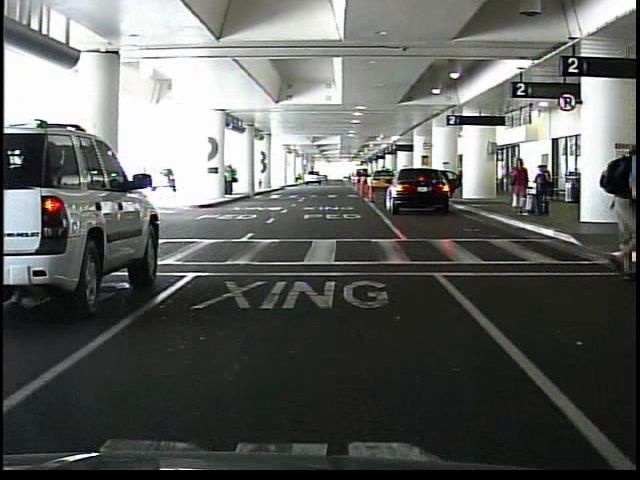person: (587, 135, 638, 271), (504, 157, 527, 213), (530, 163, 552, 216), (225, 163, 237, 197), (540, 164, 551, 199)
